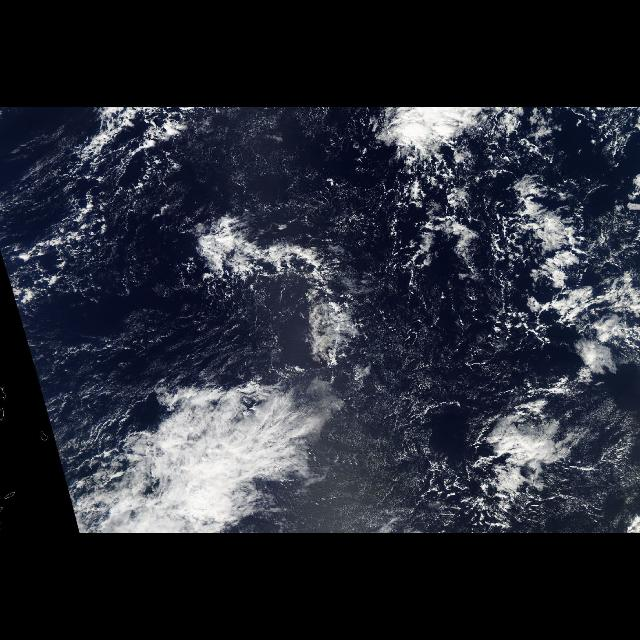Fish: (46, 203, 382, 533)
Gravel: (408, 143, 624, 531), (11, 124, 147, 326)
Sugar: (294, 320, 472, 530)
